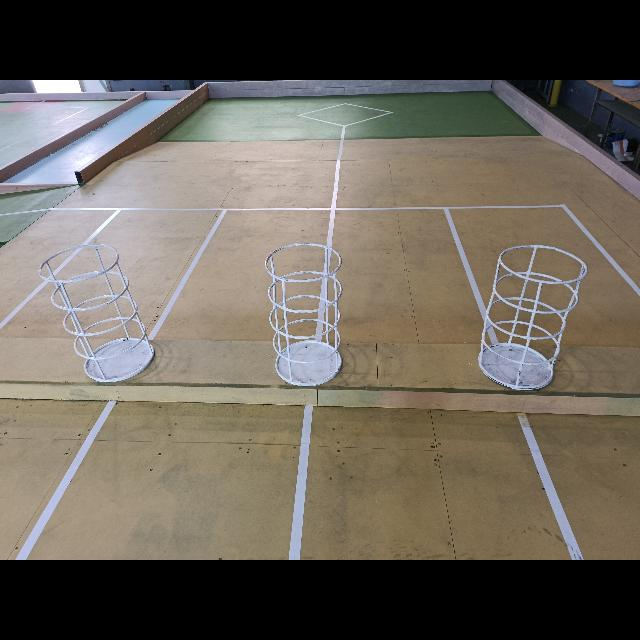S: (37, 242, 156, 385), (477, 246, 587, 393), (265, 241, 344, 389)
